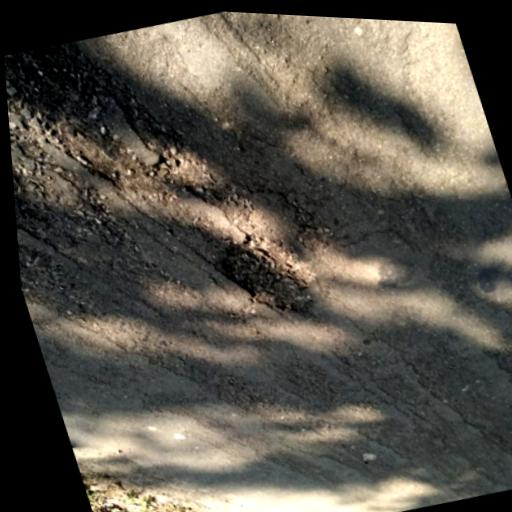pothole: (207, 217, 333, 334)
